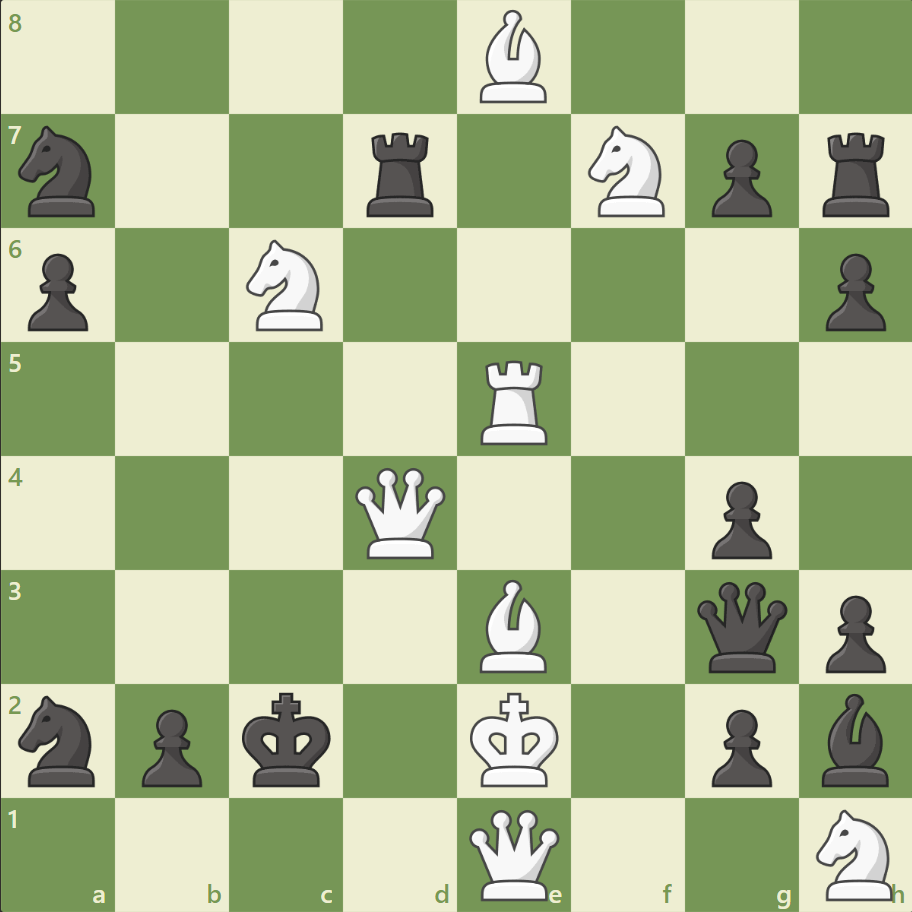B: (471, 6, 555, 109), (471, 574, 555, 676)
K: (465, 685, 565, 793)
N: (238, 234, 335, 337), (579, 121, 676, 223), (806, 802, 903, 904)
Q: (351, 463, 450, 562), (464, 804, 563, 903)
R: (473, 352, 556, 449)
b: (812, 687, 896, 790)
k: (238, 685, 338, 793)
n: (11, 688, 108, 791), (11, 121, 108, 223)
p: (701, 132, 776, 223), (20, 246, 95, 337), (701, 473, 776, 564), (133, 700, 208, 791), (701, 700, 776, 791), (815, 246, 889, 337), (815, 586, 889, 677)
q: (691, 576, 790, 676)
r: (814, 125, 897, 222), (360, 125, 442, 222)
